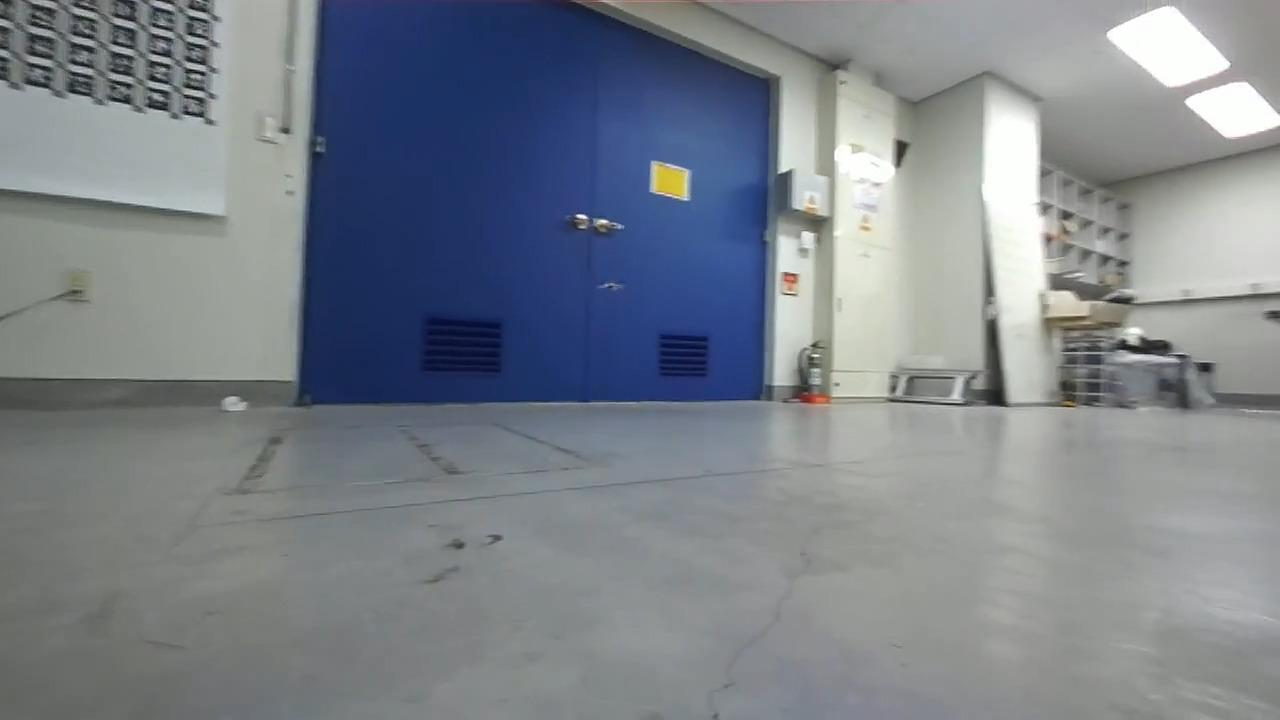crazyflie: (588, 275, 630, 297)
